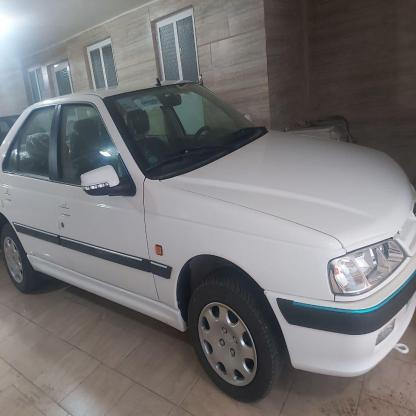Car: (0, 71, 416, 385)
